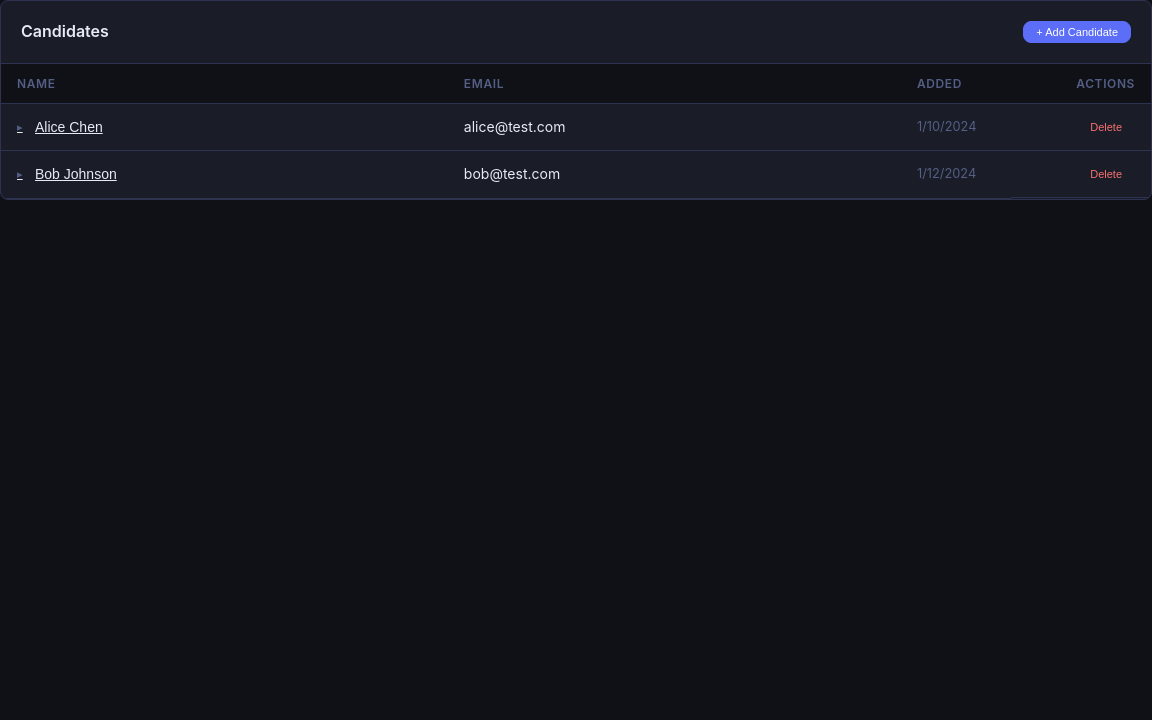
CandidateBoard › clicking Delete opens the confirmation modal
Click the button with test id "candidate-delete-c1" at (1106, 127), box [1077,116,1135,138]
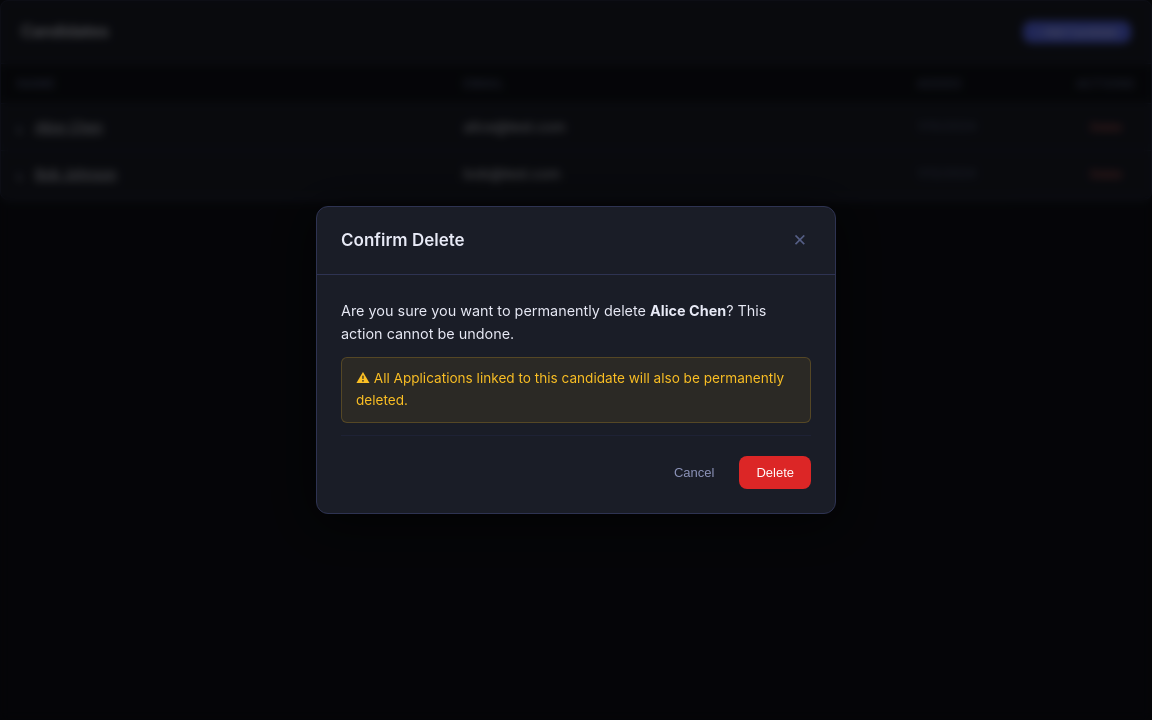
Expected: the dialog is shown, [316,206,836,514]
